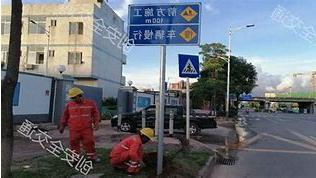sign: (127, 4, 200, 45)
